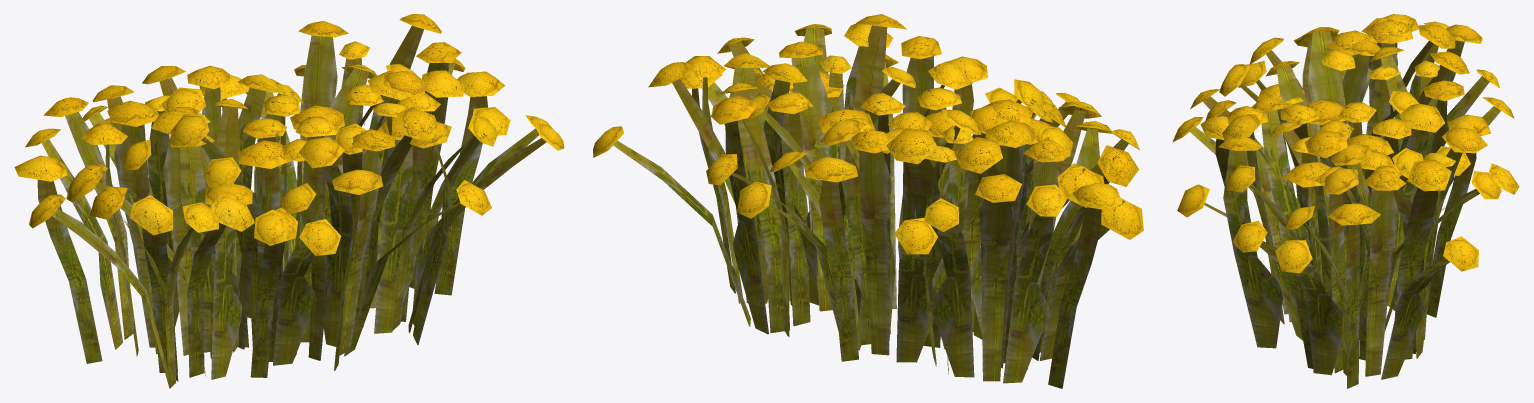
The model's file is NaturePlant07_4.FBX.
The picture shows the model from 3 angles, left to right: view 1: azimuth 30°, elevation 25°; view 2: azimuth 150°, elevation 25°; view 3: azimuth 270°, elevation 25°; orthographic projection. The views are drawn at different scales.
Parts seen in each view (by area): view 1: NaturePlant07_4; view 2: NaturePlant07_4; view 3: NaturePlant07_4.
Boxes of the visible parts, bbox=[...] form: NaturePlant07_4: bbox=[14, 14, 564, 388]; NaturePlant07_4: bbox=[593, 14, 1143, 388]; NaturePlant07_4: bbox=[1172, 14, 1519, 388].
Size of what is drawn, in the model's own units: 2.26 by 1.17 by 1.49.
